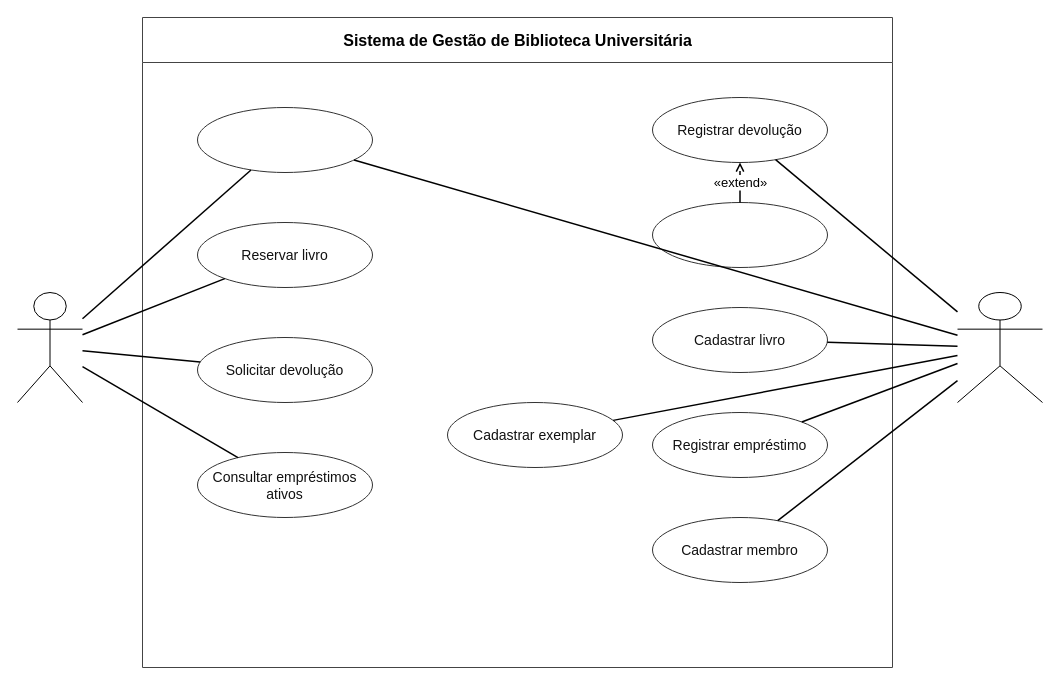
Some shapes in this 1060 by 685 pixel diagram are drawn without their labels. The shapes that lost their labels are listed below. From the top down, each one's centre as x and y in pixels, then its label:
pixel 284 139: Consultar acervo
pixel 740 235: Calcular multa
pixel 49 347: Membro
pixel 999 347: Bibliotecário
